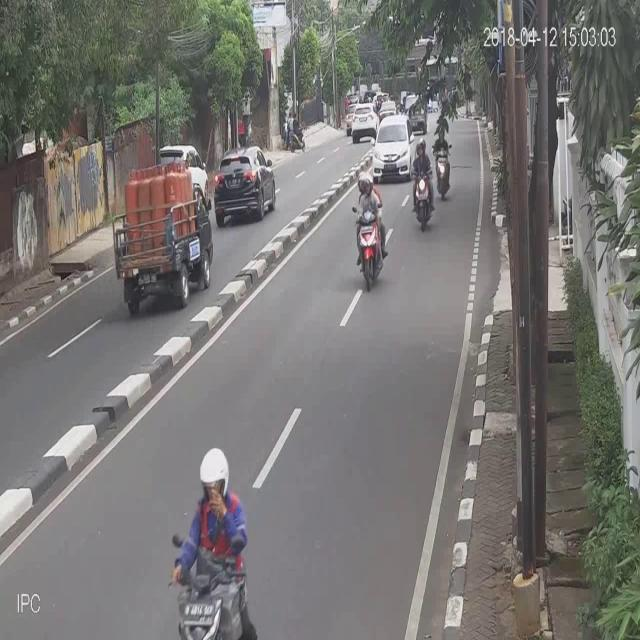bus: (168, 442, 255, 640), (353, 174, 387, 294), (413, 138, 431, 232), (435, 125, 451, 203)
motorcycle: (215, 143, 277, 228), (154, 143, 214, 207), (371, 112, 415, 186), (352, 103, 379, 146), (405, 94, 429, 134)
truck: (114, 165, 214, 326)
